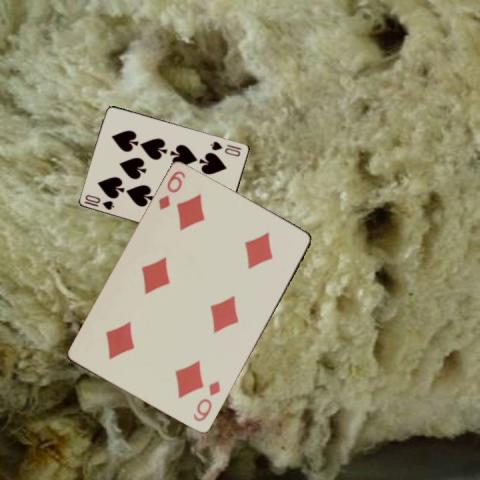10s: (208, 138, 242, 158), (83, 192, 116, 212)
6d: (190, 378, 222, 424), (155, 168, 187, 212)
